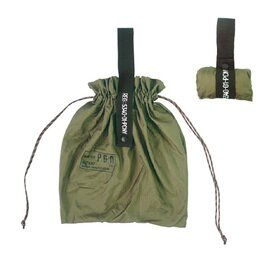nylon: (58, 18, 253, 228)
